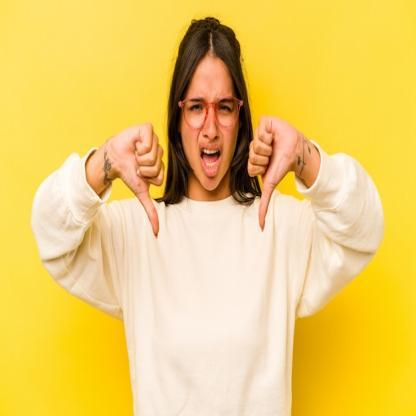thumb_down: (109, 119, 166, 242), (245, 114, 298, 234)
